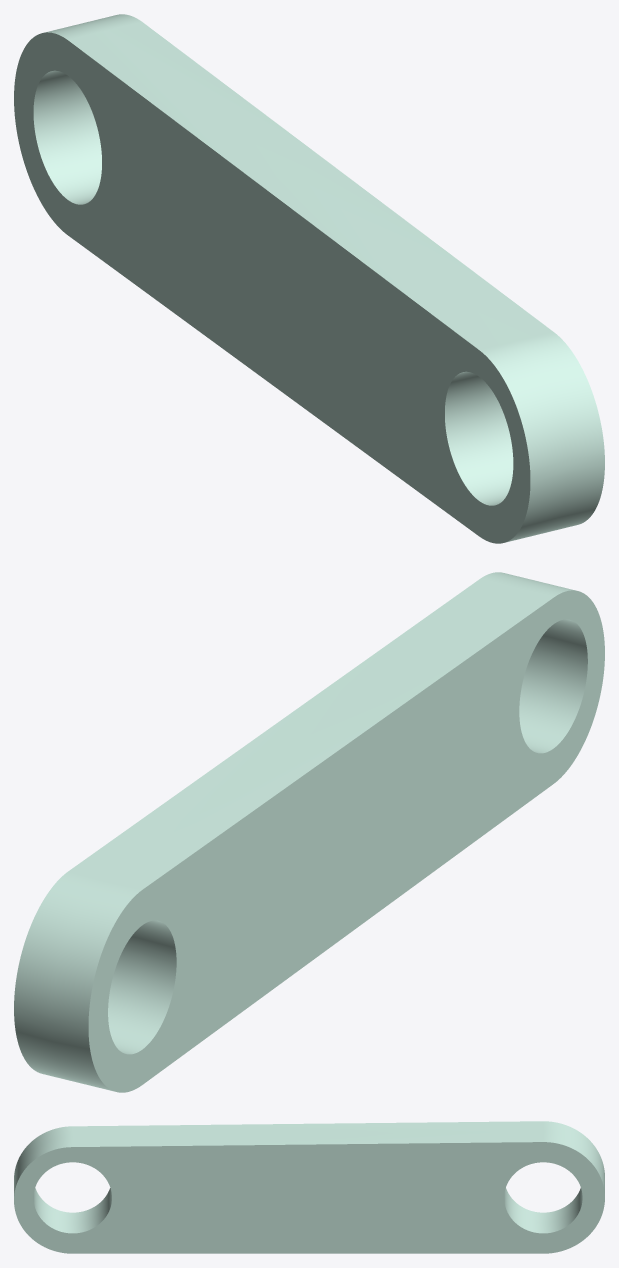
The picture shows the model from 3 angles, top to bottom: view 1: azimuth 30°, elevation 25°; view 2: azimuth 150°, elevation 25°; view 3: azimuth 270°, elevation 25°; orthographic projection. The views are drawn at different scales.
Visible parts, largest first — view 1: Renderer Node; view 2: Renderer Node; view 3: Renderer Node.
Part boxes in pixels (left/top/right/bottom): Renderer Node: left=14, top=14, right=604, bottom=543; Renderer Node: left=14, top=572, right=604, bottom=1092; Renderer Node: left=14, top=1121, right=604, bottom=1253.
Size of the model in its own units: 0.125 by 0.313 by 1.5.
